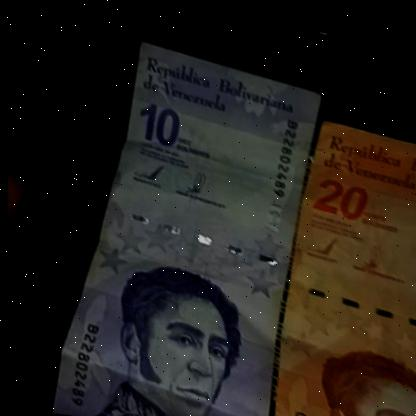vef_front: (28, 27, 329, 416), (259, 108, 416, 416)
